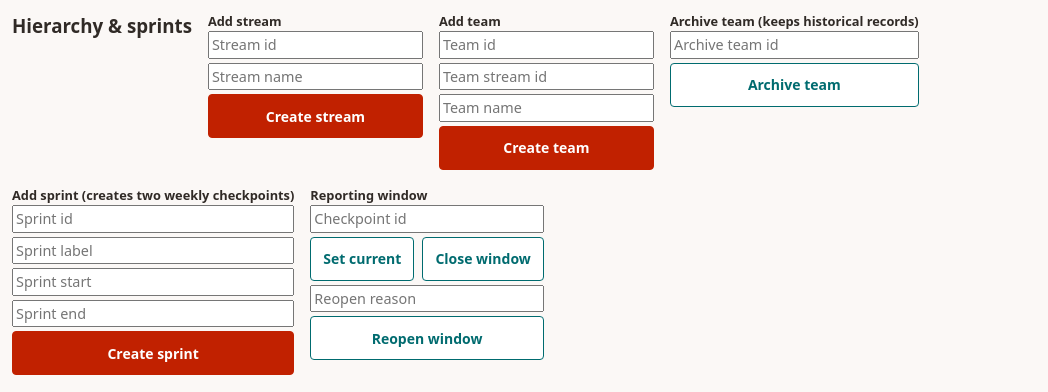
Test: HierarchyAdmin › creates a stream and shows a success notice
Type "GRMB" into the field labelled "Stream id".
click(315, 45); type("GRMB")  # box [208,31,423,59]
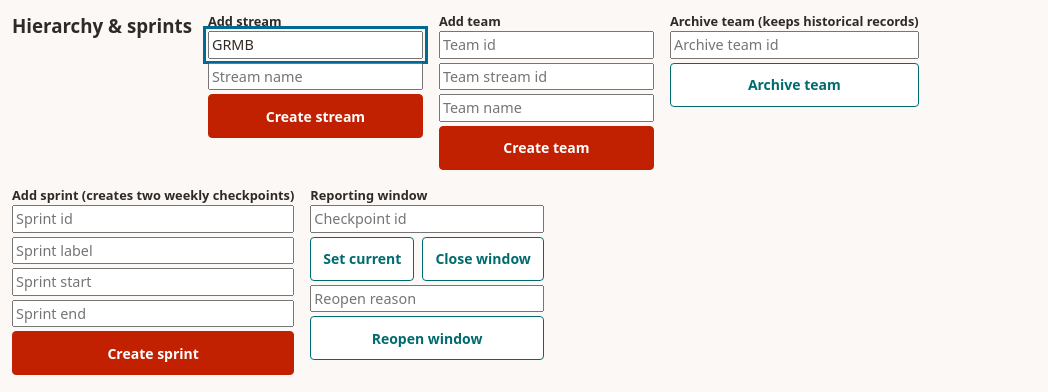
Type "GRMB" into the field labelled "Stream name".
click(315, 77); type("GRMB")  # box [208,63,423,90]
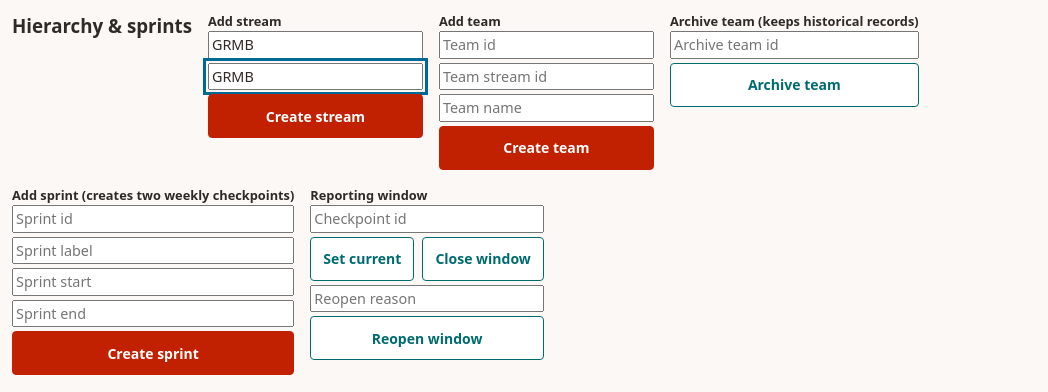
Click the button "Create stream".
click(315, 116)  # box [208,94,423,138]
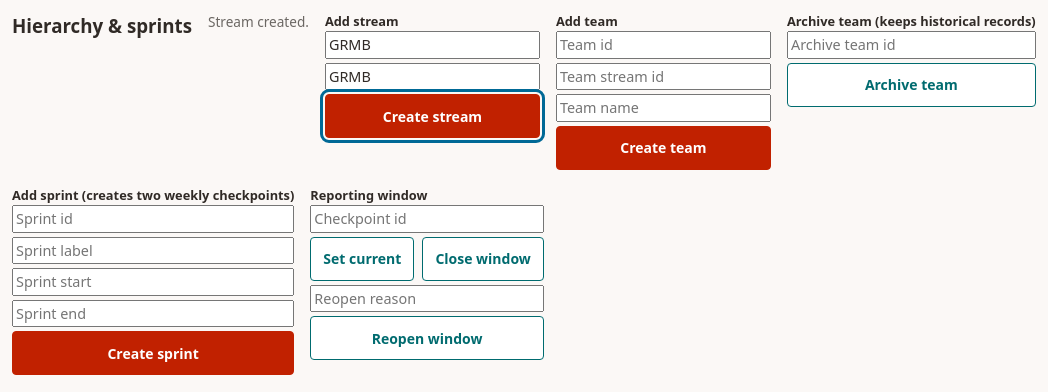
Expected: the message shows "Stream created", [208,12,309,31]
